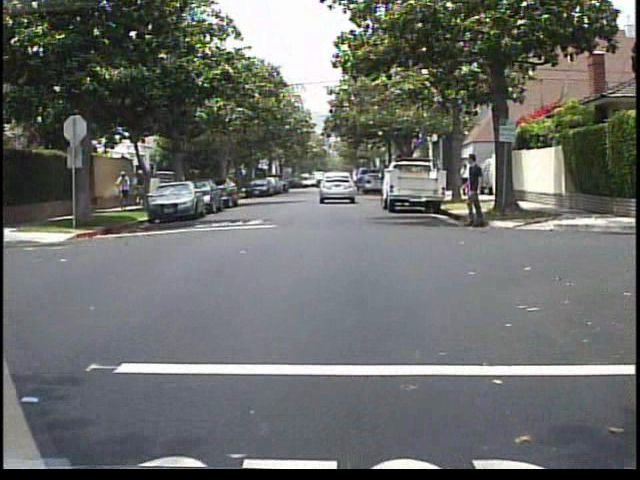person: (459, 153, 500, 233), (113, 168, 135, 205), (172, 169, 190, 204), (460, 161, 471, 197)
